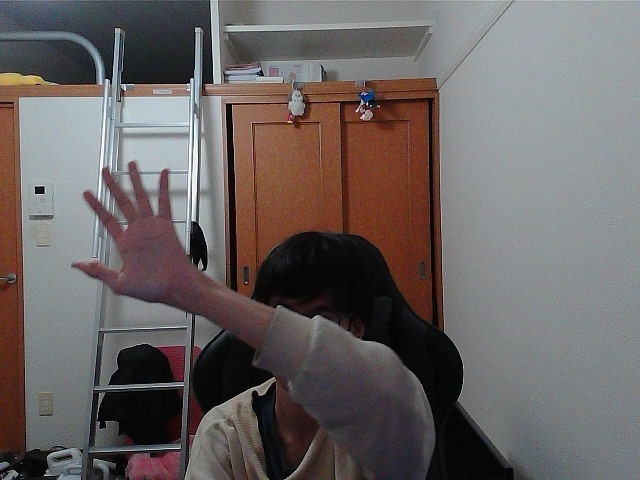open_palm: (82, 166, 172, 293)
